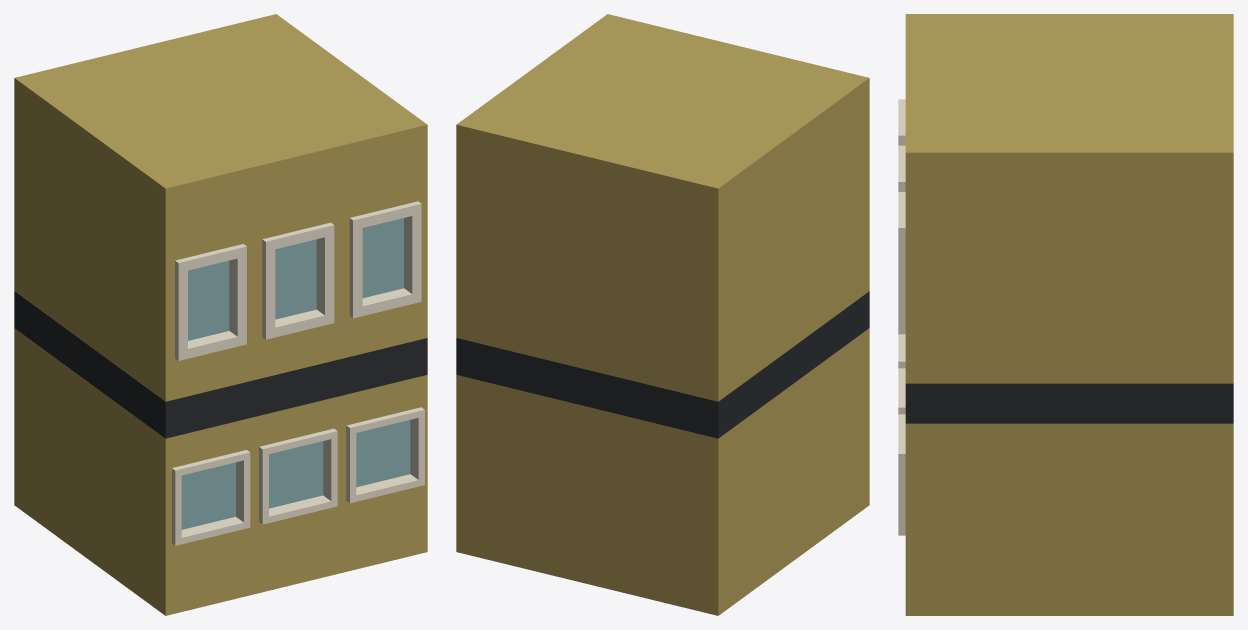
The model's file is Tentacle_Building_001.FBX.
3 views of the same model, side by side, from view 1: azimuth 30°, elevation 25°; view 2: azimuth 150°, elevation 25°; view 3: azimuth 270°, elevation 25° (orthographic). The views are drawn at different scales.
Visible parts, largest first — view 1: Box003; view 2: Box003; view 3: Box003.
Boxes of the visible parts, x1,y1,x2,y2 form: Box003: [14, 14, 427, 615]; Box003: [456, 14, 869, 615]; Box003: [898, 14, 1233, 615].
Size of the model in its own units: 100 by 156 by 102.
